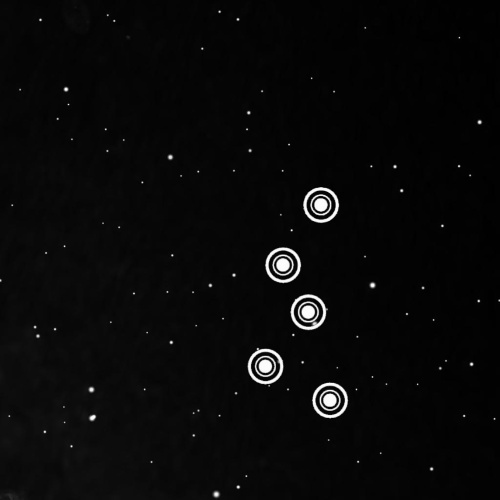cassiopeia: (228, 172, 367, 435)
